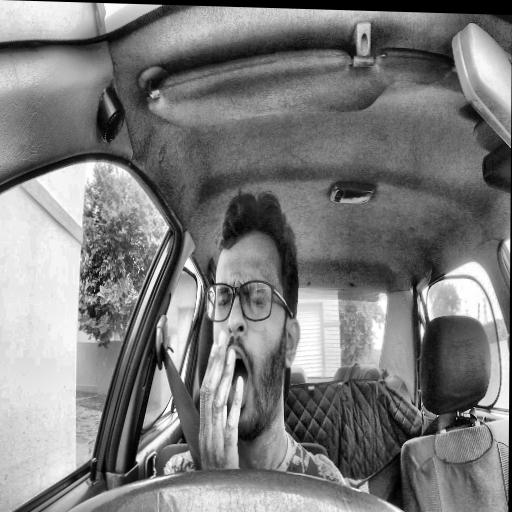drowsy: (204, 192, 302, 439)
